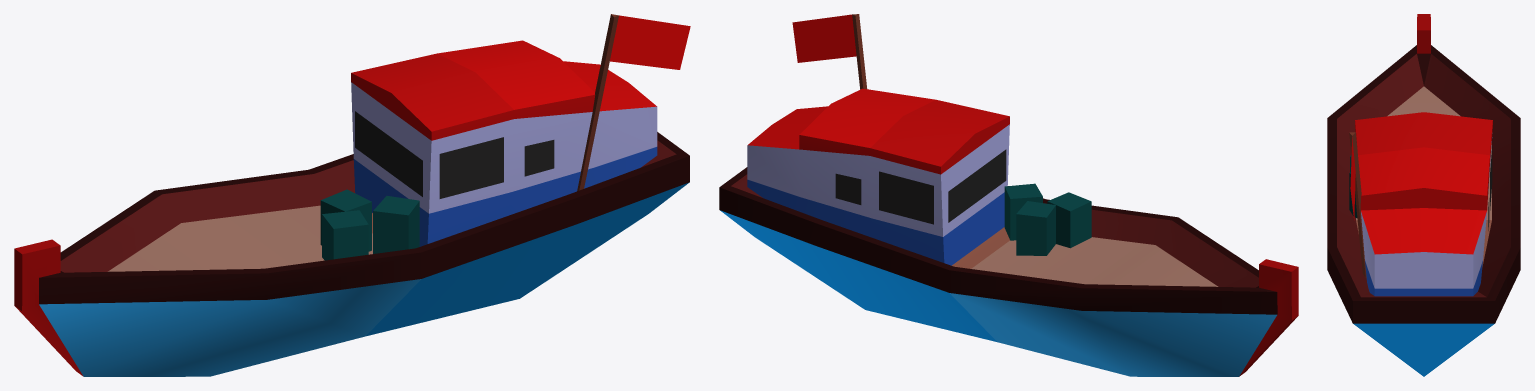
The model's file is SM_Boat_01.fbx.
3 views of the same model, side by side, from view 1: azimuth 30°, elevation 25°; view 2: azimuth 150°, elevation 25°; view 3: azimuth 270°, elevation 25° (orthographic). The views are drawn at different scales.
Parts seen in each view (by area): view 1: SM_Boat_01_LOD0; view 2: SM_Boat_01_LOD0; view 3: SM_Boat_01_LOD0.
Boxes of the visible parts, x1,y1,x2,y2 form: SM_Boat_01_LOD0: [14, 14, 690, 376]; SM_Boat_01_LOD0: [719, 14, 1298, 376]; SM_Boat_01_LOD0: [1327, 14, 1520, 376].
Size of what is drawn, in the model's own units: 4.38 by 2 by 1.36.
